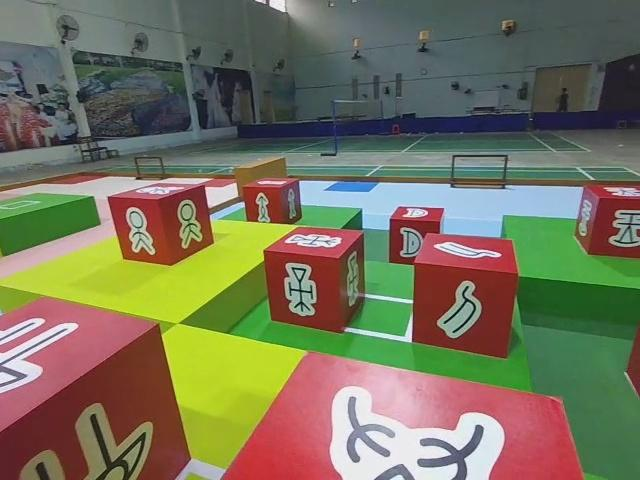R2 Real: (221, 348, 589, 480), (0, 293, 195, 480), (412, 230, 518, 357), (259, 224, 369, 331), (108, 180, 214, 265), (571, 180, 640, 259), (384, 204, 446, 267), (241, 173, 301, 226)
